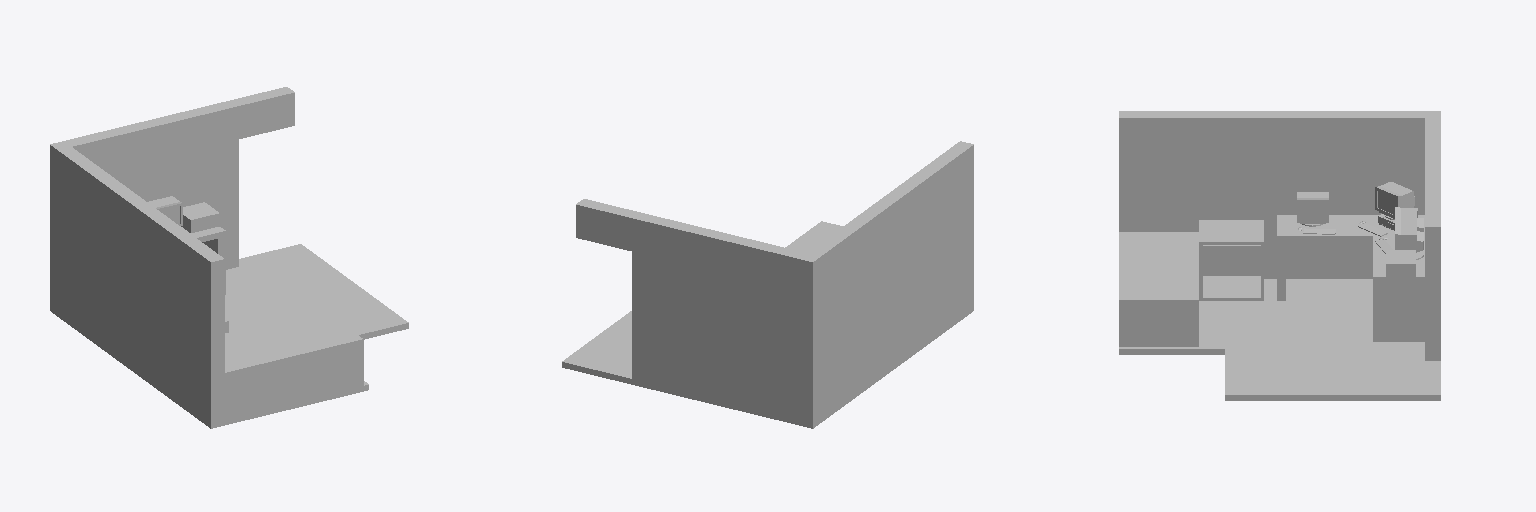
Rendered from Resources_Env_RoomTest_01c.obj.
3 renders of one model, left to right at view 1: azimuth 30°, elevation 25°; view 2: azimuth 150°, elevation 25°; view 3: azimuth 270°, elevation 25°, orthographic.
Visible parts, largest first — view 1: Mesh106 Wall_Back1 Model, Mesh105 Group95 Wall_LivingRoom1 Model, Mesh118 Ground1 Model, Mesh107 Bed1 Model, Mesh2 MacintoshQuadra900_1 Model; view 2: Mesh105 Group95 Wall_LivingRoom1 Model, Mesh106 Wall_Back1 Model, Mesh118 Ground1 Model, Mesh107 Bed1 Model; view 3: Mesh106 Wall_Back1 Model, Mesh118 Ground1 Model, Mesh107 Bed1 Model, Mesh108 NightTable1 Model, Mesh105 Group95 Wall_LivingRoom1 Model, Mesh111 Group98 Desk1 Model, Mesh109 Group96 Desk1 Model, Mesh2 MacintoshQuadra900_1 Model, Mesh4 SGI_GDM_5411_21__Monitor1 Model, Mesh99 Group93 SGI_GDM_5411_21__Monitor3 Model, Mesh103 SGI_GDM_5411_21__Monitor4 Model, Mesh110 Group97 Desk1 Model.
Boxes of the visible parts, x1=… form: Mesh106 Wall_Back1 Model: x1=50, y1=141, x2=224, y2=422; Mesh105 Group95 Wall_LivingRoom1 Model: x1=64, y1=87, x2=294, y2=269; Mesh118 Ground1 Model: x1=50, y1=244, x2=408, y2=428; Mesh107 Bed1 Model: x1=225, y1=310, x2=363, y2=419; Mesh2 MacintoshQuadra900_1 Model: x1=181, y1=202, x2=219, y2=232; Mesh105 Group95 Wall_LivingRoom1 Model: x1=576, y1=199, x2=806, y2=419; Mesh106 Wall_Back1 Model: x1=799, y1=141, x2=973, y2=422; Mesh118 Ground1 Model: x1=562, y1=306, x2=973, y2=428; Mesh107 Bed1 Model: x1=785, y1=221, x2=842, y2=252; Mesh106 Wall_Back1 Model: x1=1119, y1=111, x2=1440, y2=278; Mesh118 Ground1 Model: x1=1119, y1=279, x2=1440, y2=400; Mesh107 Bed1 Model: x1=1119, y1=232, x2=1198, y2=346; Mesh108 NightTable1 Model: x1=1199, y1=220, x2=1263, y2=300; Mesh105 Group95 Wall_LivingRoom1 Model: x1=1425, y1=118, x2=1440, y2=360; Mesh111 Group98 Desk1 Model: x1=1277, y1=215, x2=1424, y2=282; Mesh109 Group96 Desk1 Model: x1=1373, y1=283, x2=1424, y2=341; Mesh2 MacintoshQuadra900_1 Model: x1=1386, y1=250, x2=1415, y2=276; Mesh4 SGI_GDM_5411_21__Monitor1 Model: x1=1297, y1=198, x2=1328, y2=222; Mesh99 Group93 SGI_GDM_5411_21__Monitor3 Model: x1=1401, y1=221, x2=1423, y2=252; Mesh103 SGI_GDM_5411_21__Monitor4 Model: x1=1375, y1=186, x2=1401, y2=217; Mesh110 Group97 Desk1 Model: x1=1277, y1=242, x2=1285, y2=300.
Size of the model in its own units: 4.5 by 2.85 by 5.